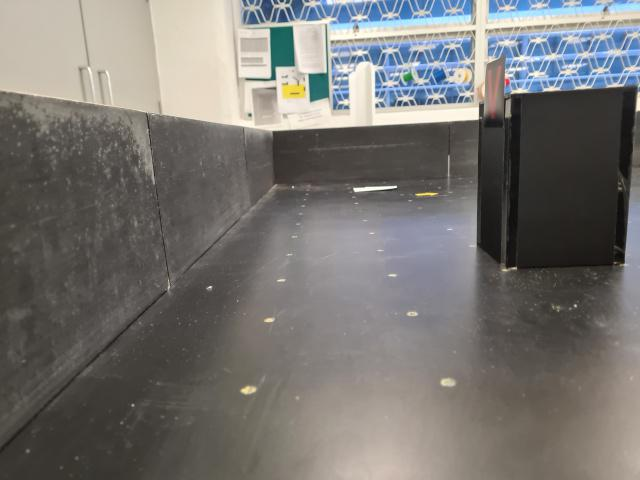alphabet_v: (484, 56, 506, 123)
